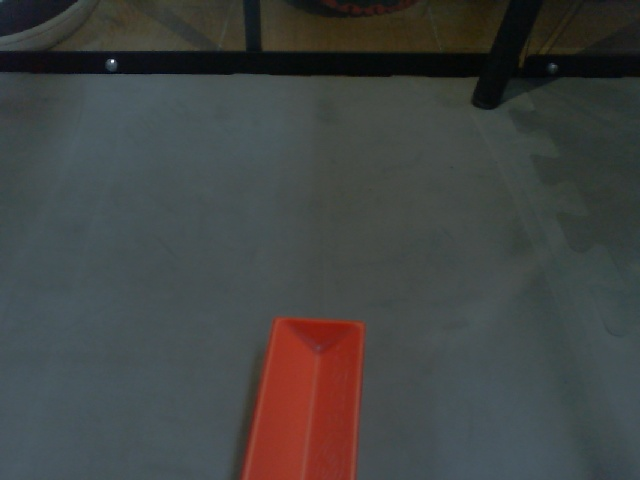RedSample: (235, 311, 365, 480)
